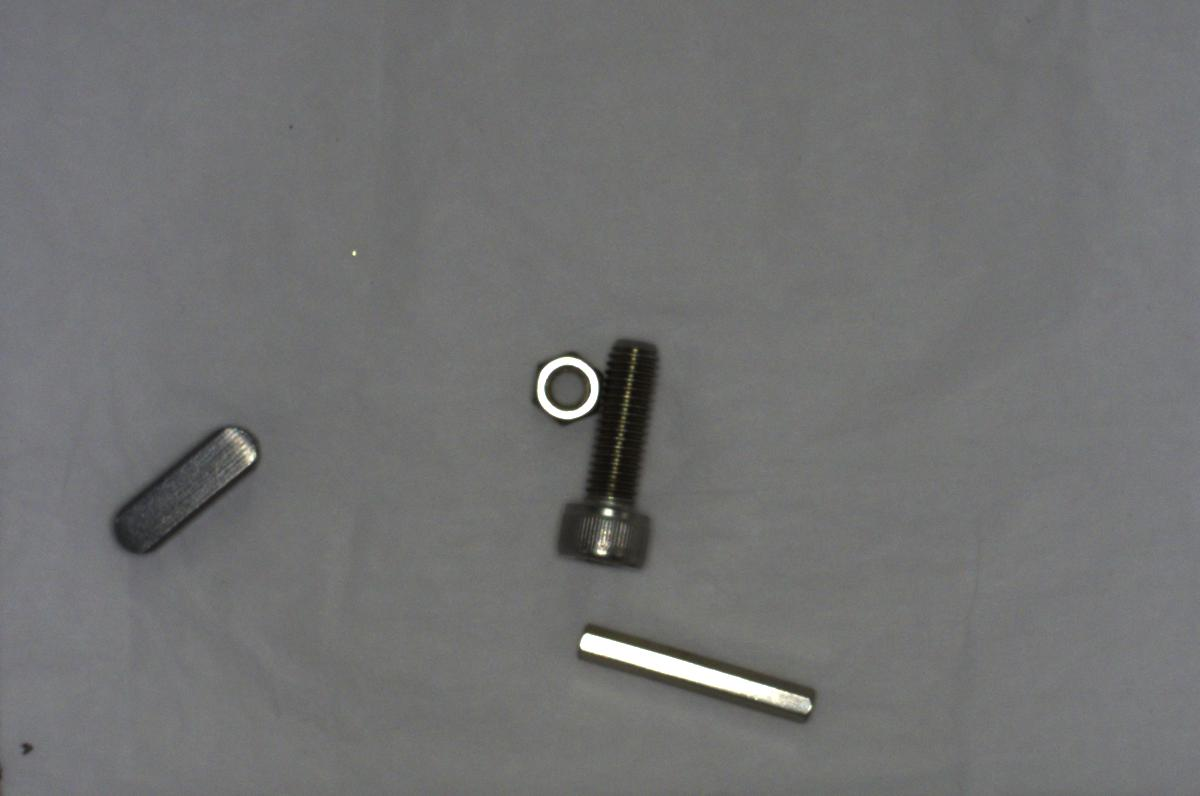Double hexagonal column: (577, 618, 821, 727)
Hexagon nut: (526, 345, 606, 429)
Hexagon screw: (548, 333, 679, 579)
Keybar: (108, 422, 273, 558)
